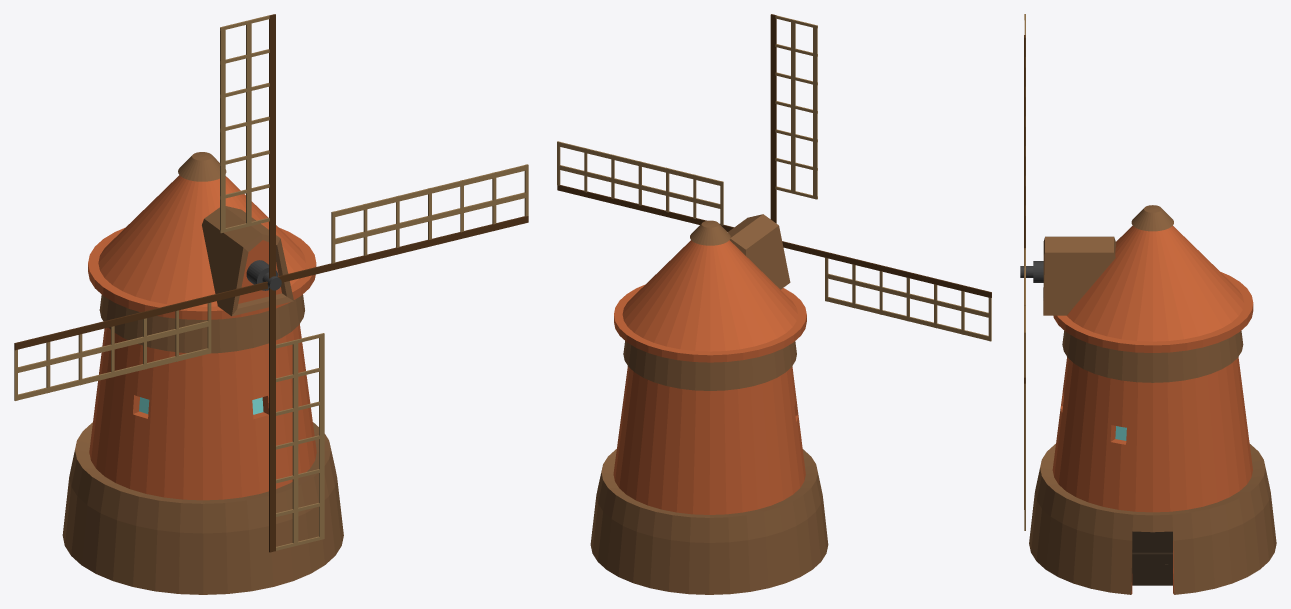
Rendered from mill02.fbx.
The picture shows the model from 3 angles, left to right: view 1: azimuth 30°, elevation 25°; view 2: azimuth 150°, elevation 25°; view 3: azimuth 270°, elevation 25°; orthographic projection. The views are drawn at different scales.
Parts seen in each view (by area): view 1: mill02, mill02.propeller; view 2: mill02, mill02.propeller; view 3: mill02, mill02.propeller.
Part boxes in pixels (x1=…): mill02: x1=62, y1=152, x2=343, y2=594; mill02.propeller: x1=14, y1=14, x2=528, y2=552; mill02: x1=590, y1=214, x2=828, y2=594; mill02.propeller: x1=557, y1=14, x2=991, y2=341; mill02: x1=1029, y1=205, x2=1276, y2=594; mill02.propeller: x1=1020, y1=14, x2=1043, y2=530.
Bounding box in the file's own units: 1647 × 1768 × 808.
